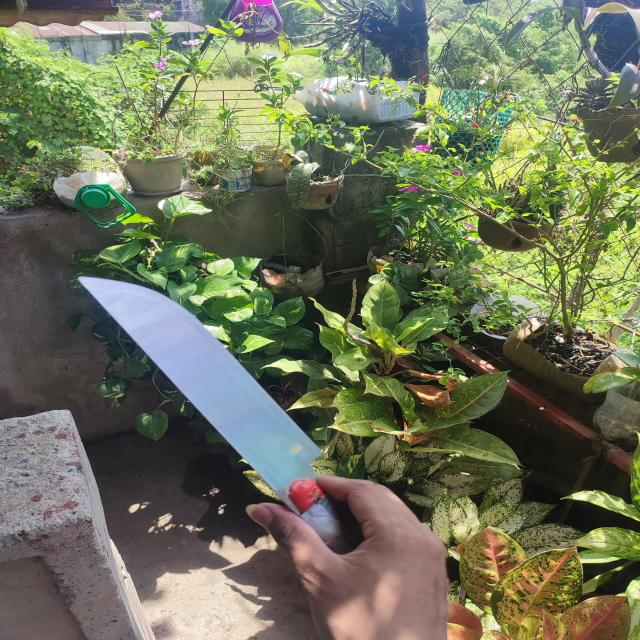knife: (77, 276, 356, 549)
